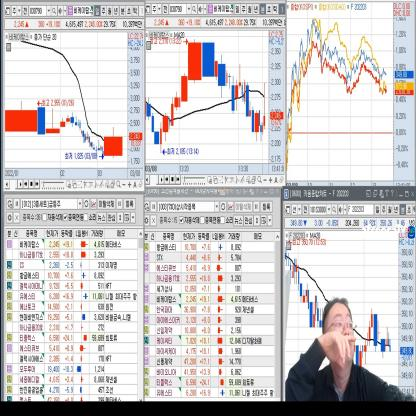streamer: (285, 295, 416, 402)
